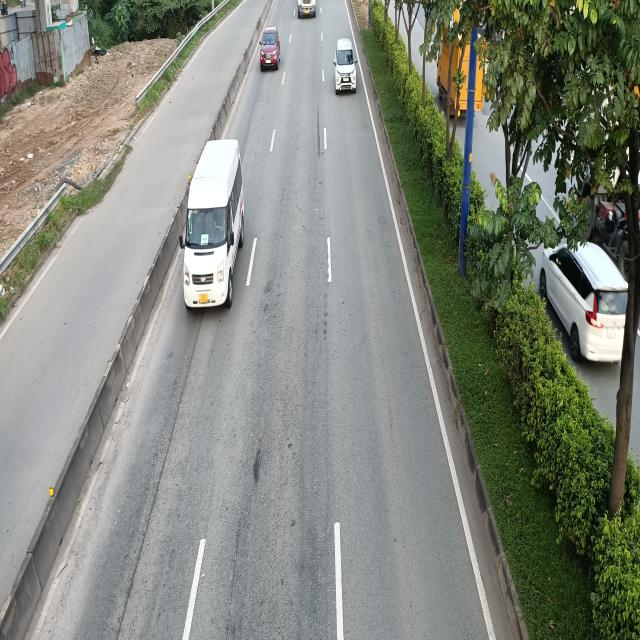car: (334, 40, 359, 94), (260, 24, 282, 69)
van: (180, 140, 247, 312)
